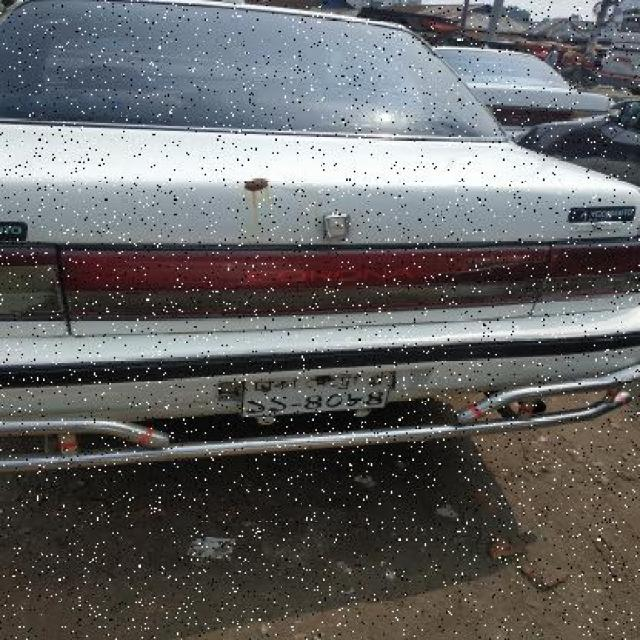numberplate: (237, 368, 395, 422)
